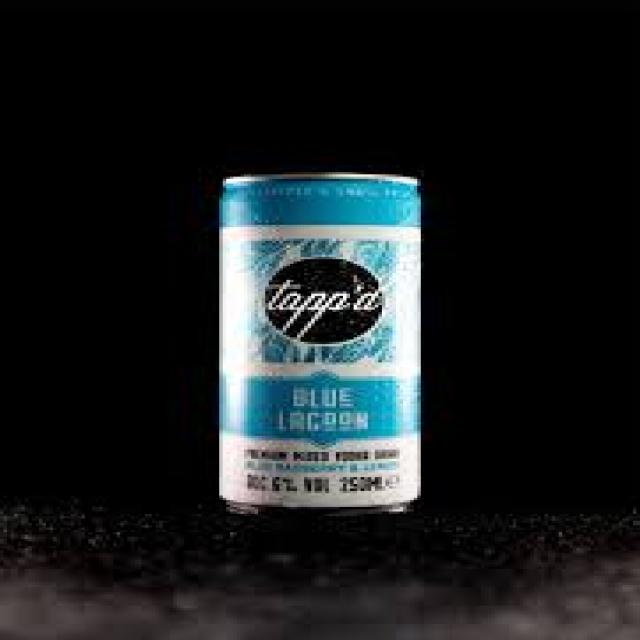Cans: (202, 165, 438, 519)
